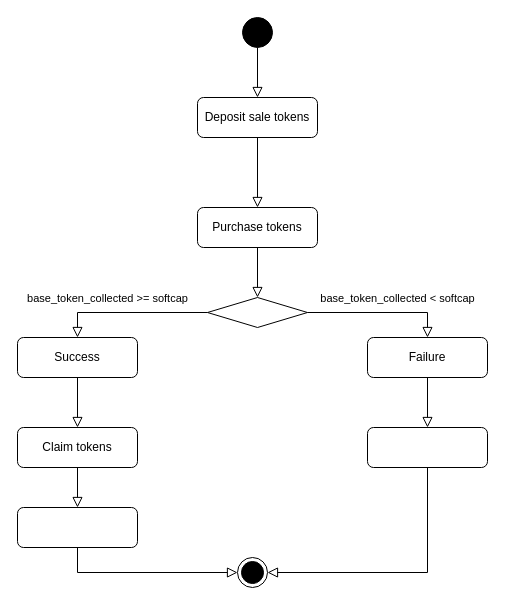
The diagram is 505 pixels wide and 605 high, and some of its shapes have lost their labels. The centre of each missing label's shape, as x and y in pixels:
"Lock & add liquidity to swap DEX" belongs at [77,527].
"Refund" belongs at [427,447].
